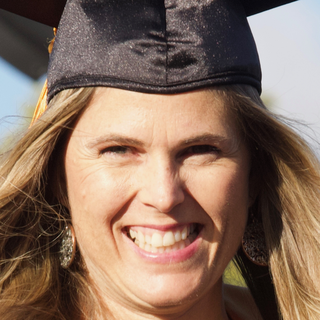eye: (92, 132, 146, 166), (168, 142, 223, 168)
